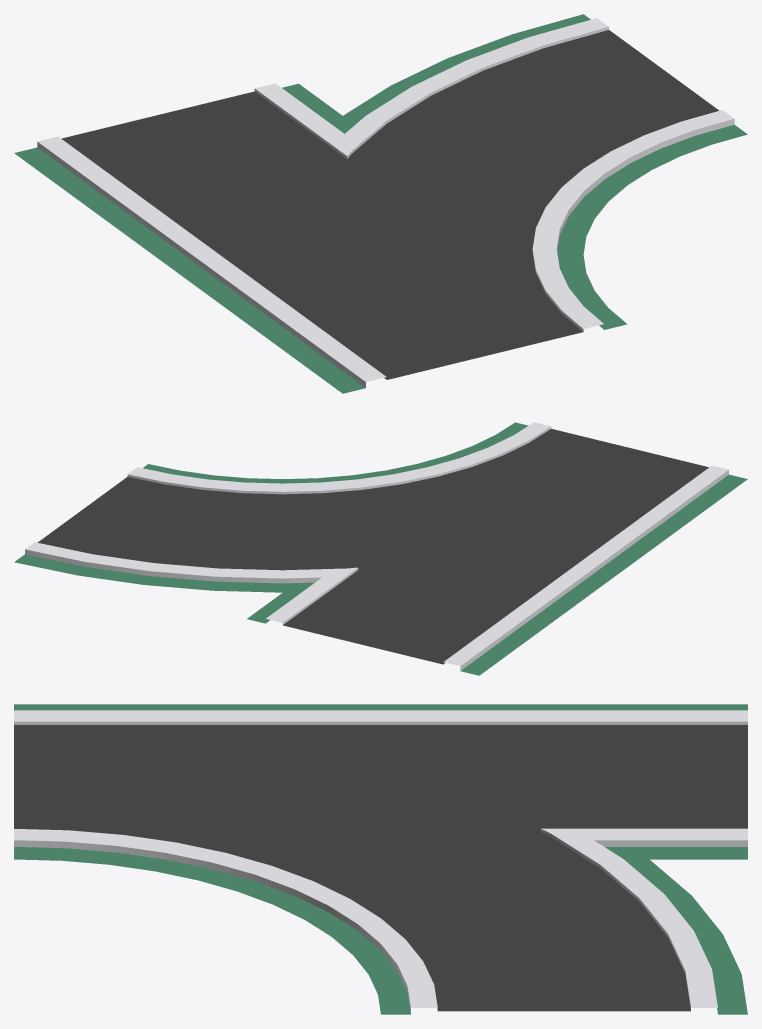
The model's file is roadSplitLarge.glb.
3 renders of one model, top to bottom at view 1: azimuth 30°, elevation 25°; view 2: azimuth 150°, elevation 25°; view 3: azimuth 270°, elevation 25°, orthographic. The views are drawn at different scales.
Visible parts, largest first — view 1: roadSplitLarge(Clone); view 2: roadSplitLarge(Clone); view 3: roadSplitLarge(Clone).
Boxes of the visible parts, box(x1,y1,x2,y2) form: roadSplitLarge(Clone): box(14, 14, 747, 393); roadSplitLarge(Clone): box(14, 422, 747, 675); roadSplitLarge(Clone): box(14, 704, 747, 1014).
Bounding box in the file's own units: 2 × 0.02 × 2.
